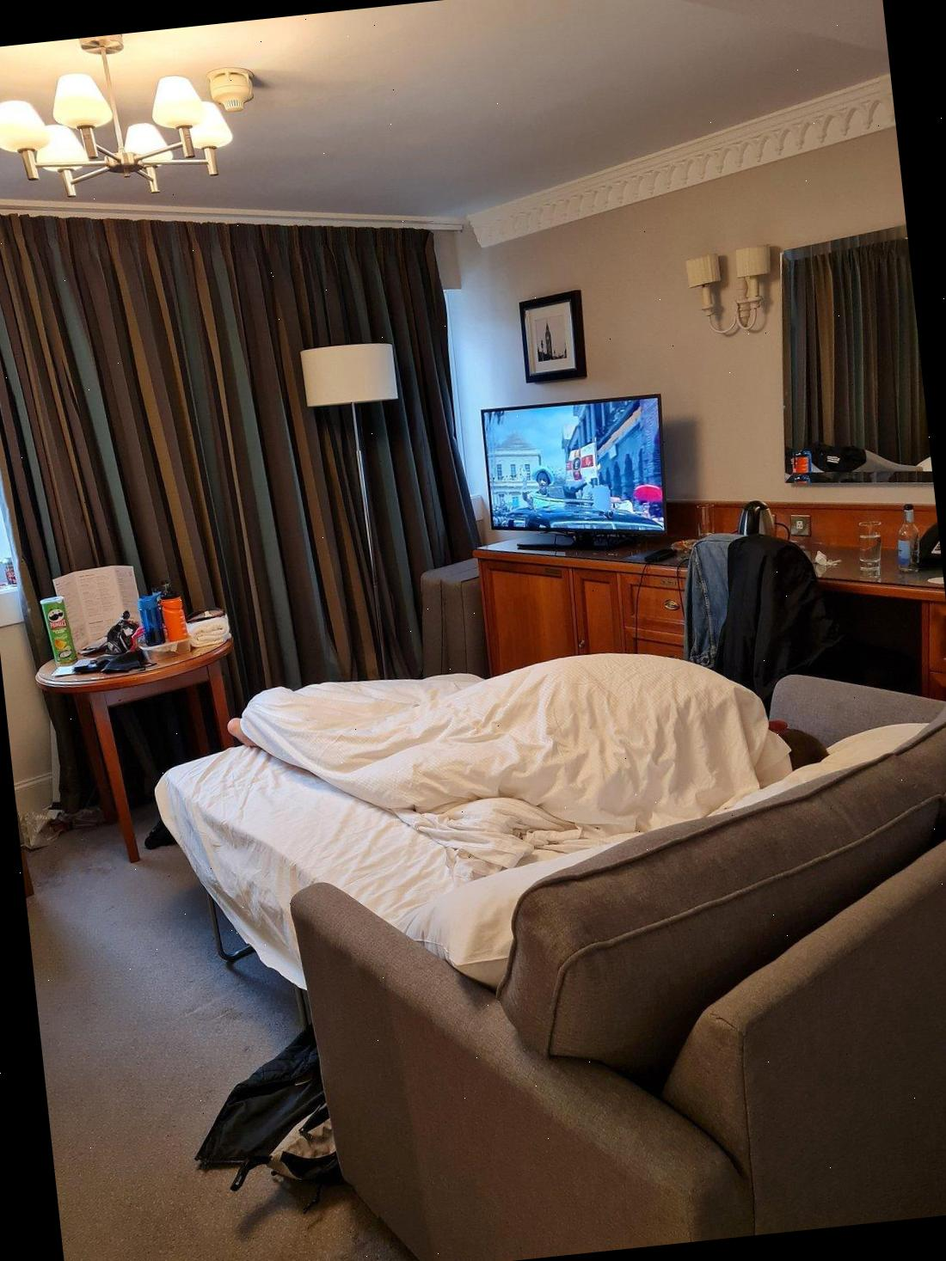lamp: (303, 338, 443, 689)
messy_bed: (170, 666, 927, 961)
messy_table: (32, 558, 254, 864)
